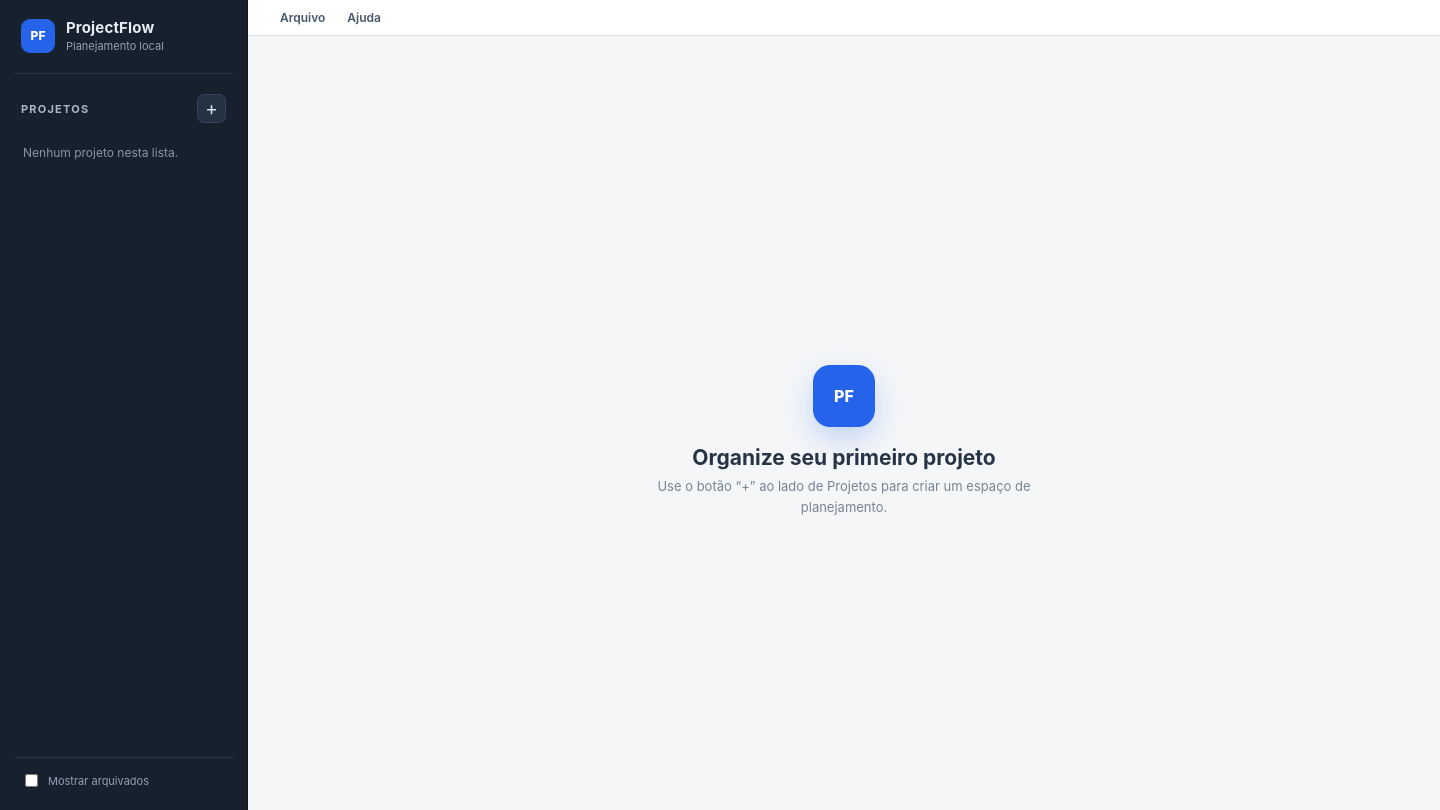
aplicação ProjectFlow › cria um projeto e abre sua tabela
Expected: the heading "Organize seu primeiro projeto" is shown, left=692, top=445, right=996, bottom=470
Click the button named "Criar projeto" at (212, 108), box left=197, top=94, right=226, bottom=123
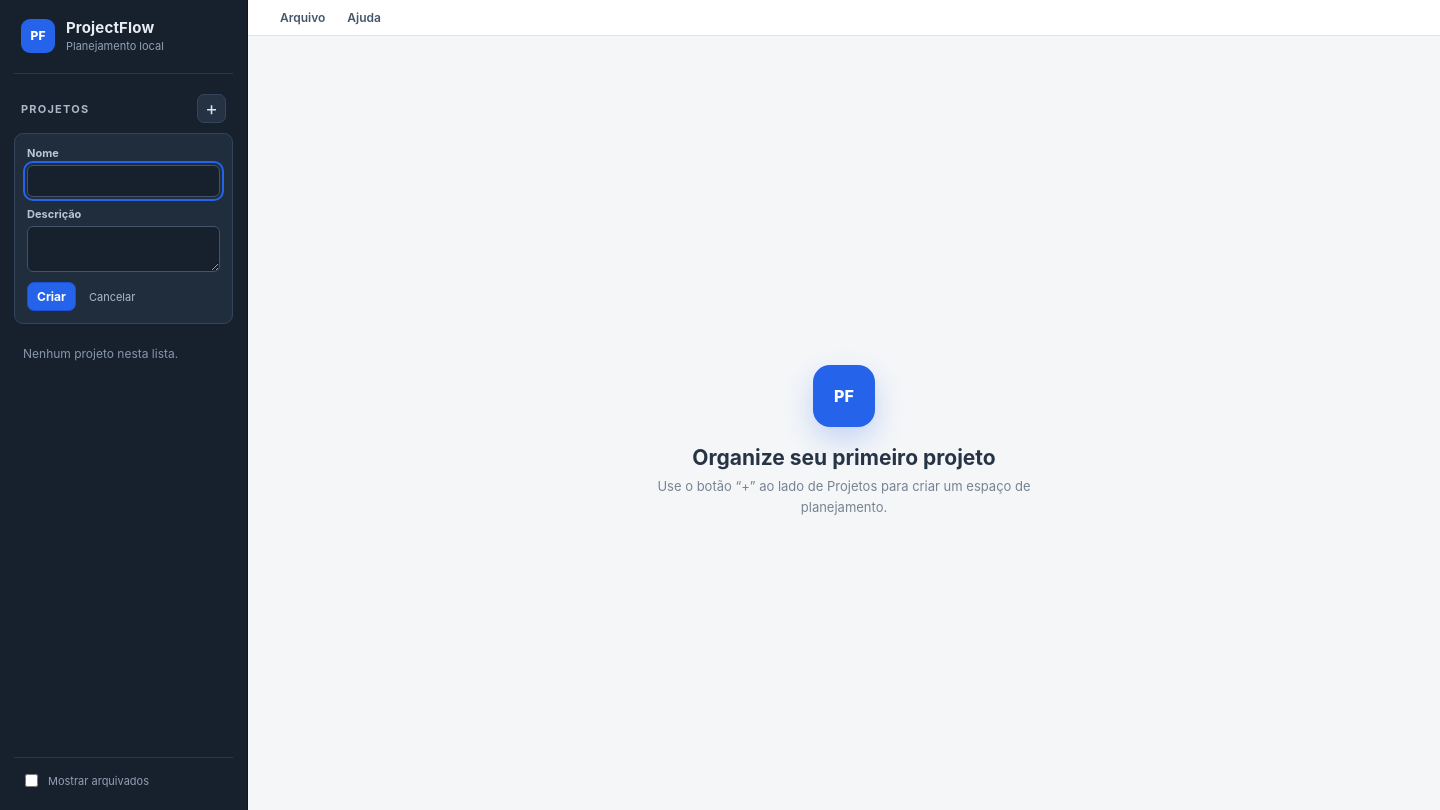
Type "Implantação" into the field labelled "Nome" at (124, 181), box left=27, top=165, right=220, bottom=197
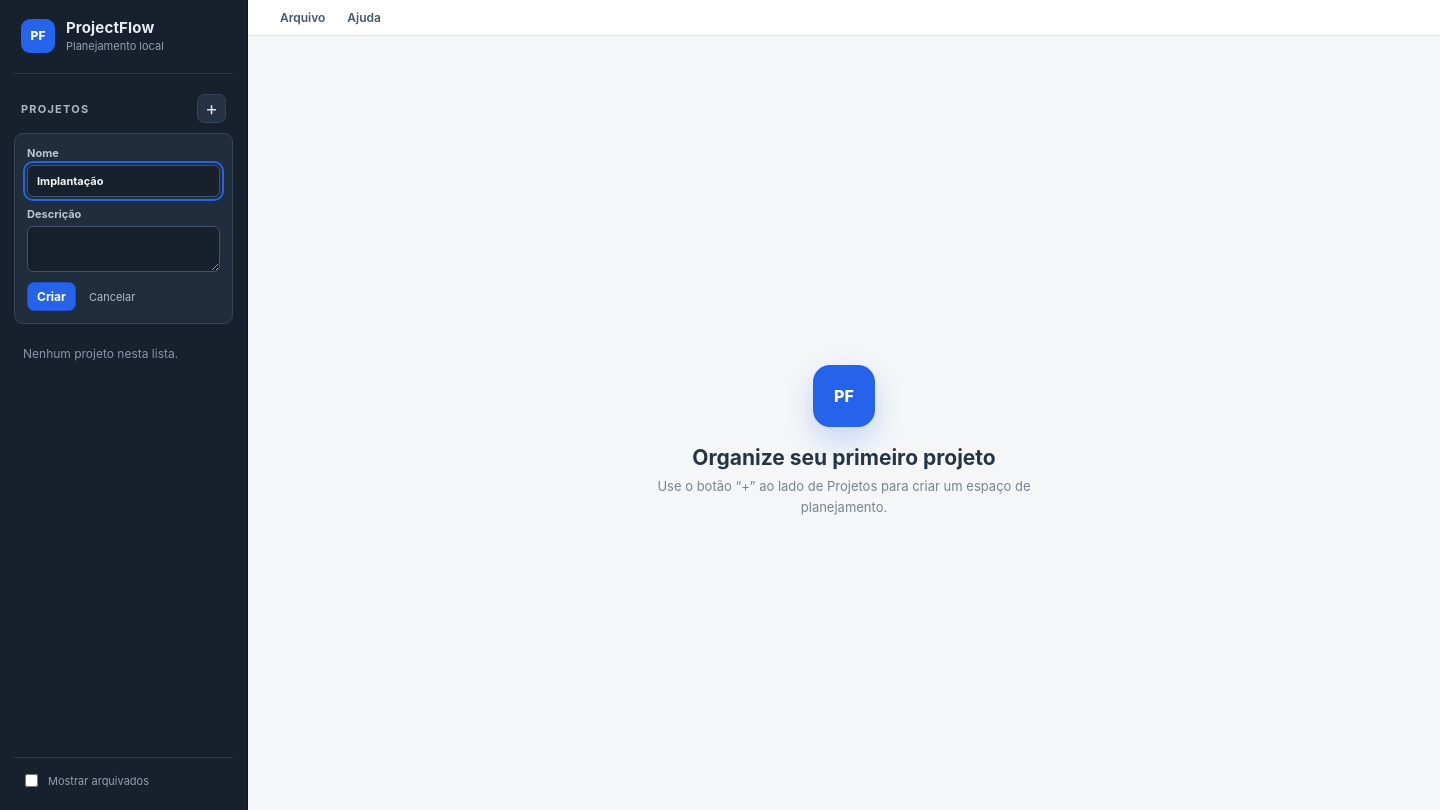
Click the button "Criar" at (51, 296), box left=27, top=282, right=76, bottom=311
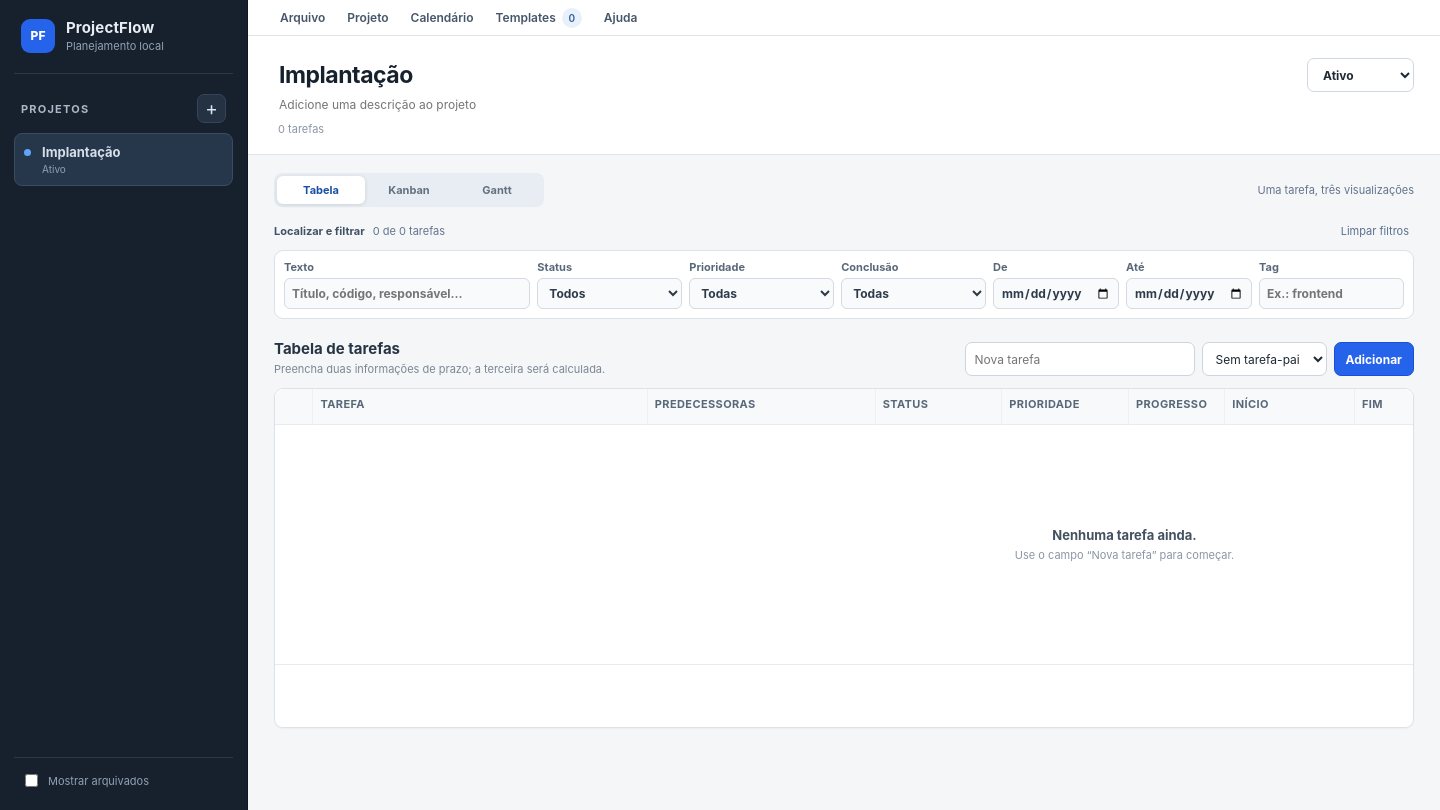
Expected: the heading "Tabela de tarefas" is shown, left=274, top=339, right=400, bottom=358
Expected: the field named "Nome do projeto" holds "Implantação", left=274, top=58, right=894, bottom=92
